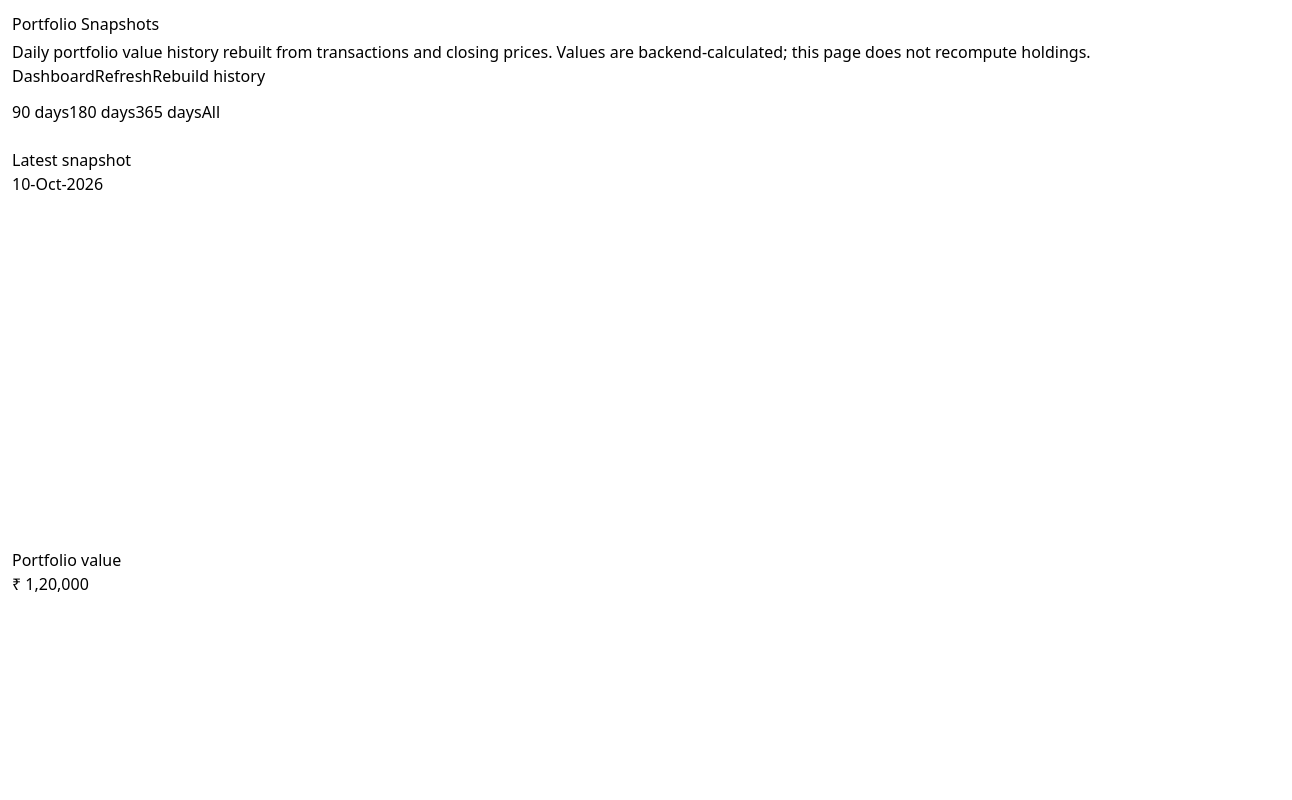
Test: fences snapshot ranges, distinguishes failed reads from confirmed empty history, and preserves same-range rows as stale
This screenshot has width=1292, height=800.
Click the button "90 days": (41, 112) [12, 100, 69, 124]
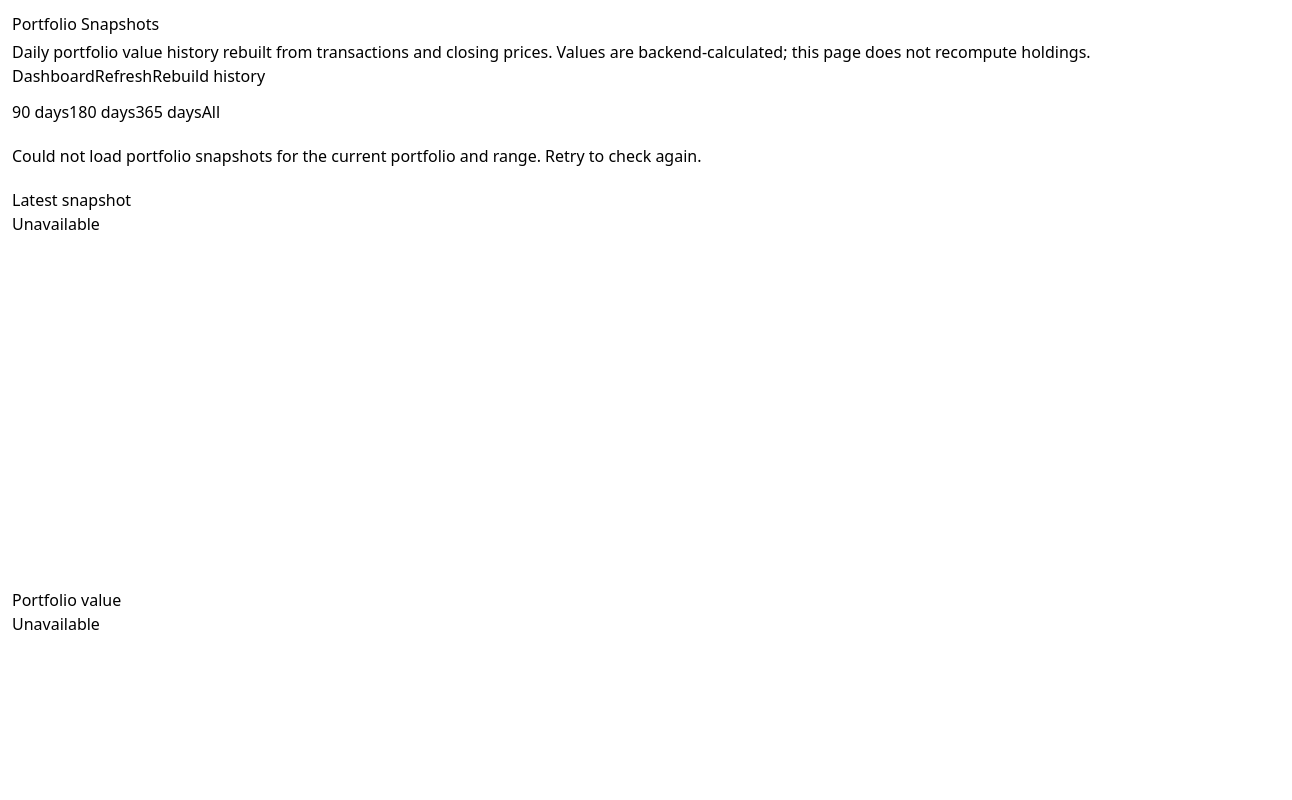
Expected: the text "No portfolio snapshots yet" is not shown
Expected: the message shows "Could not load portfolio snapshots", [12, 145, 702, 167]
Click the button "Refresh": (124, 76) [95, 64, 152, 88]
(page scrolled)
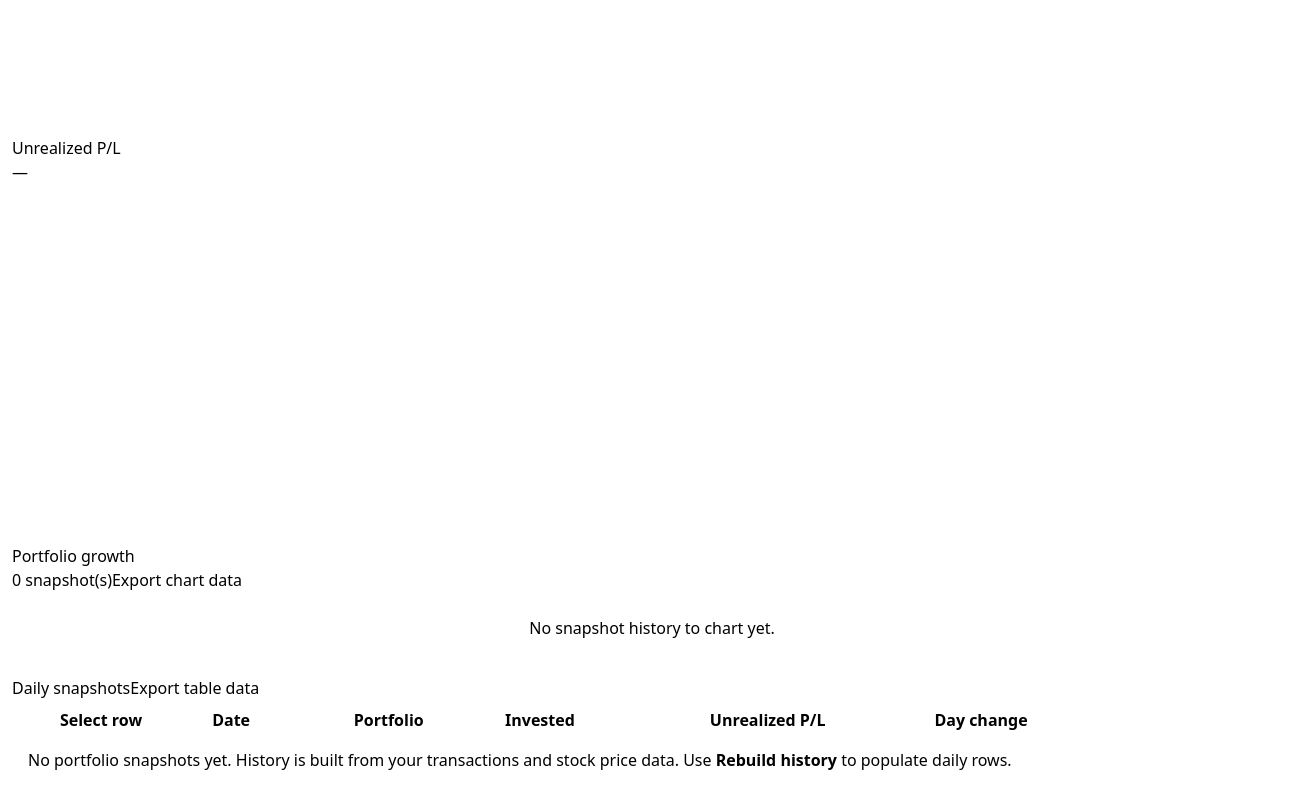
Expected: the text "No portfolio snapshots yet" is shown, [28, 749, 716, 771]
Expected: the text "0 snapshot(s)" is shown, [12, 569, 112, 591]
